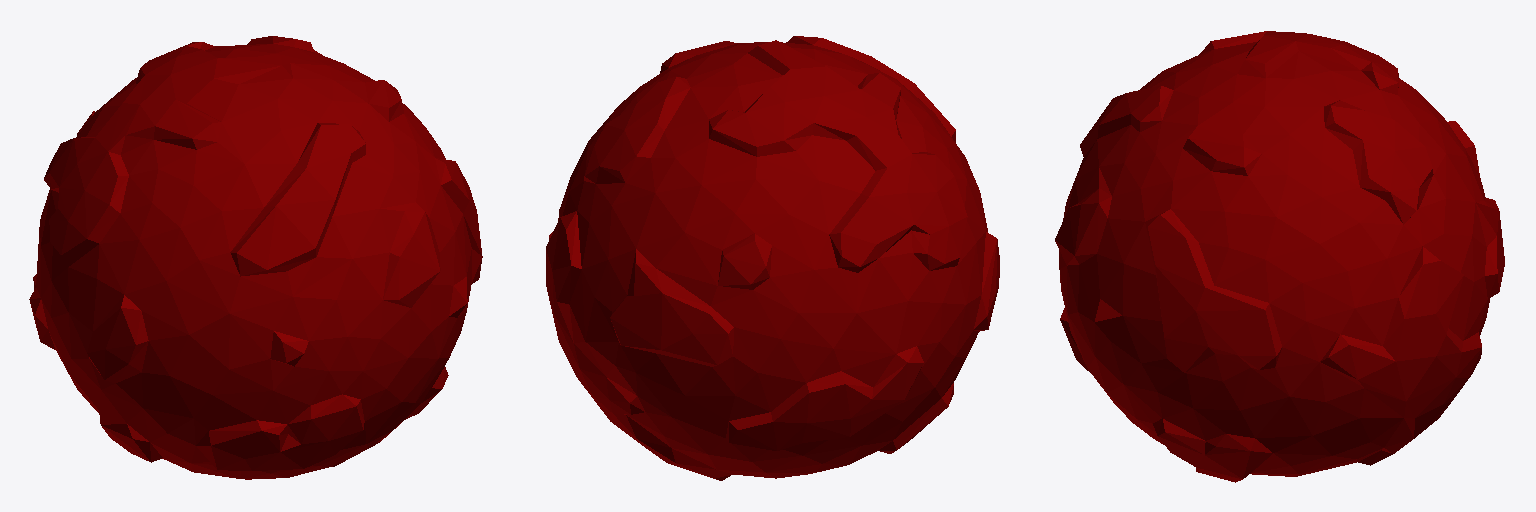
File: mercury_scaled.obj
The picture shows the model from 3 angles: view 1: azimuth 30°, elevation 25°; view 2: azimuth 150°, elevation 25°; view 3: azimuth 270°, elevation 25°; orthographic projection.
Visible parts, largest first — view 1: Mercury; view 2: Mercury; view 3: Mercury.
Boxes of the visible parts, <box> form: Mercury: <box>29,36,482,479</box>; Mercury: <box>546,36,999,480</box>; Mercury: <box>1055,31,1504,482</box>.
Bounding box in the file's own units: 10.09 × 9.98 × 10.14.